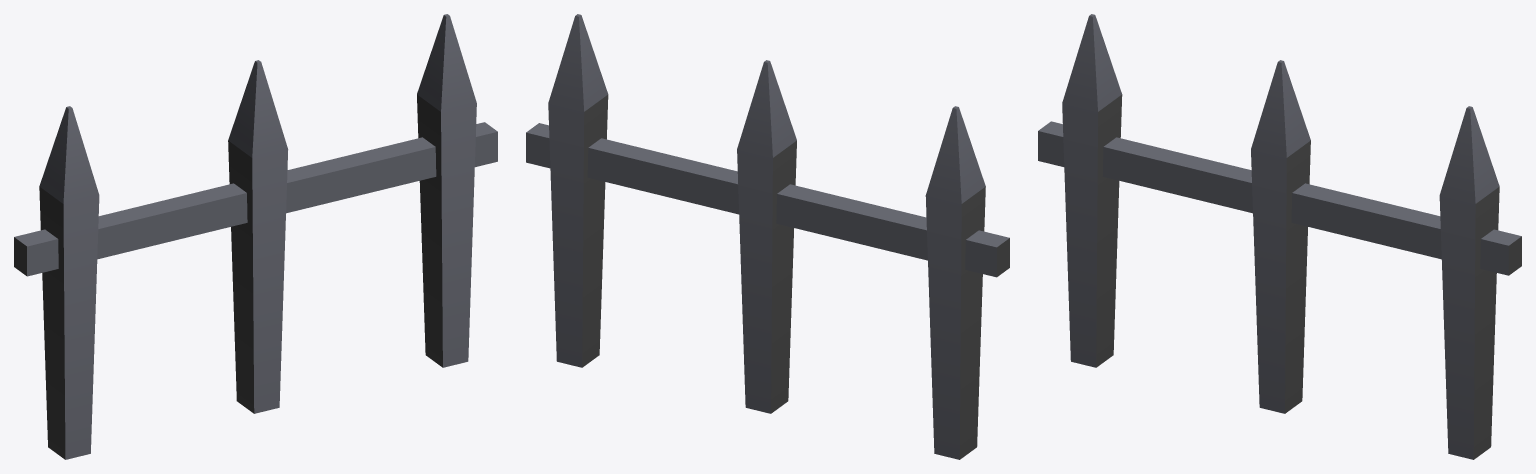
Rendered from Zeolite_acc_03.FBX.
3 views of the same model, side by side, from view 1: azimuth 30°, elevation 25°; view 2: azimuth 150°, elevation 25°; view 3: azimuth 330°, elevation 25° (orthographic).
Visible parts, largest first — view 1: Zeolite_acc_03; view 2: Zeolite_acc_03; view 3: Zeolite_acc_03.
Boxes of the visible parts, x1,y1,x2,y2 form: Zeolite_acc_03: (14, 14, 497, 459); Zeolite_acc_03: (526, 14, 1009, 459); Zeolite_acc_03: (1038, 14, 1521, 459).
Bounding box in the file's own units: 136 × 94.66 × 12.08.
